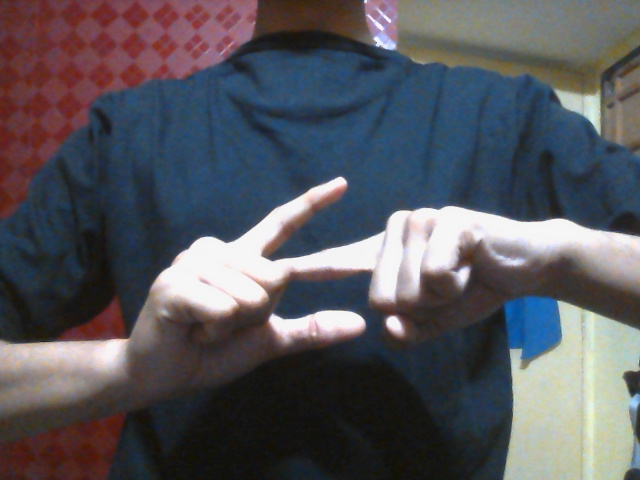E: (136, 174, 501, 390)
